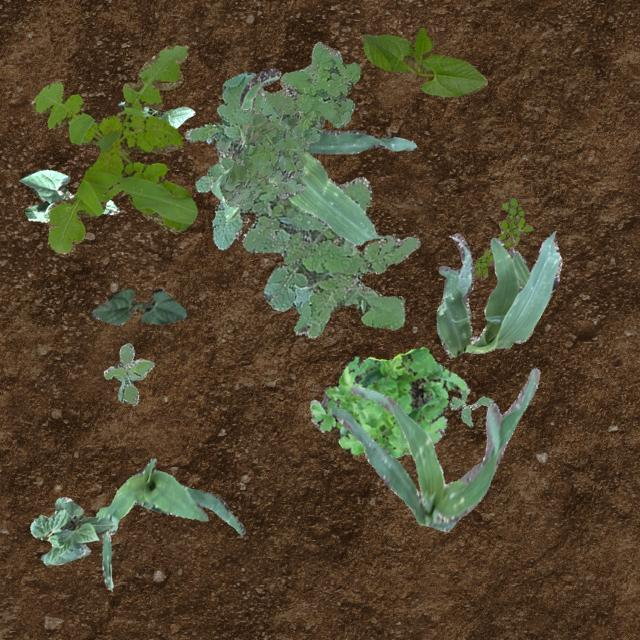crop: (210, 66, 416, 245), (328, 368, 540, 530), (93, 456, 244, 590), (436, 230, 560, 356), (361, 26, 486, 96), (29, 496, 112, 564), (18, 168, 118, 222), (90, 288, 188, 324), (118, 100, 194, 128)
weed: (185, 71, 418, 336), (30, 44, 196, 252), (218, 41, 360, 206), (308, 346, 468, 456), (473, 196, 532, 278), (102, 342, 152, 404), (448, 388, 492, 426)
